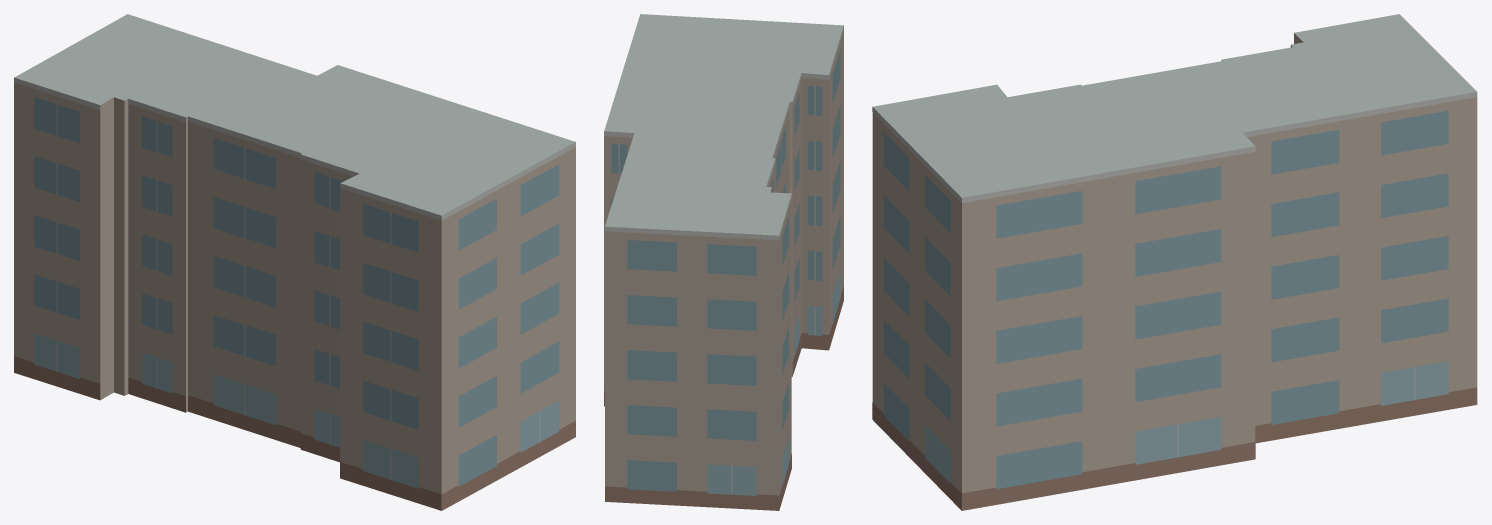
The model's file is survey-upis-32752158.glb.
3 views of the same model, side by side, from view 1: azimuth 30°, elevation 25°; view 2: azimuth 150°, elevation 25°; view 3: azimuth 270°, elevation 25° (orthographic). The views are drawn at different scales.
Parts seen in each view (by area): view 1: survey-upis-32752158.tmp; view 2: survey-upis-32752158.tmp; view 3: survey-upis-32752158.tmp.
Boxes of the visible parts, box(x1,y1,x2,y2) form: survey-upis-32752158.tmp: box(14, 14, 575, 510); survey-upis-32752158.tmp: box(604, 14, 843, 510); survey-upis-32752158.tmp: box(872, 14, 1477, 510).
Size of the model in its own units: 17.96 by 14.25 by 24.97.
